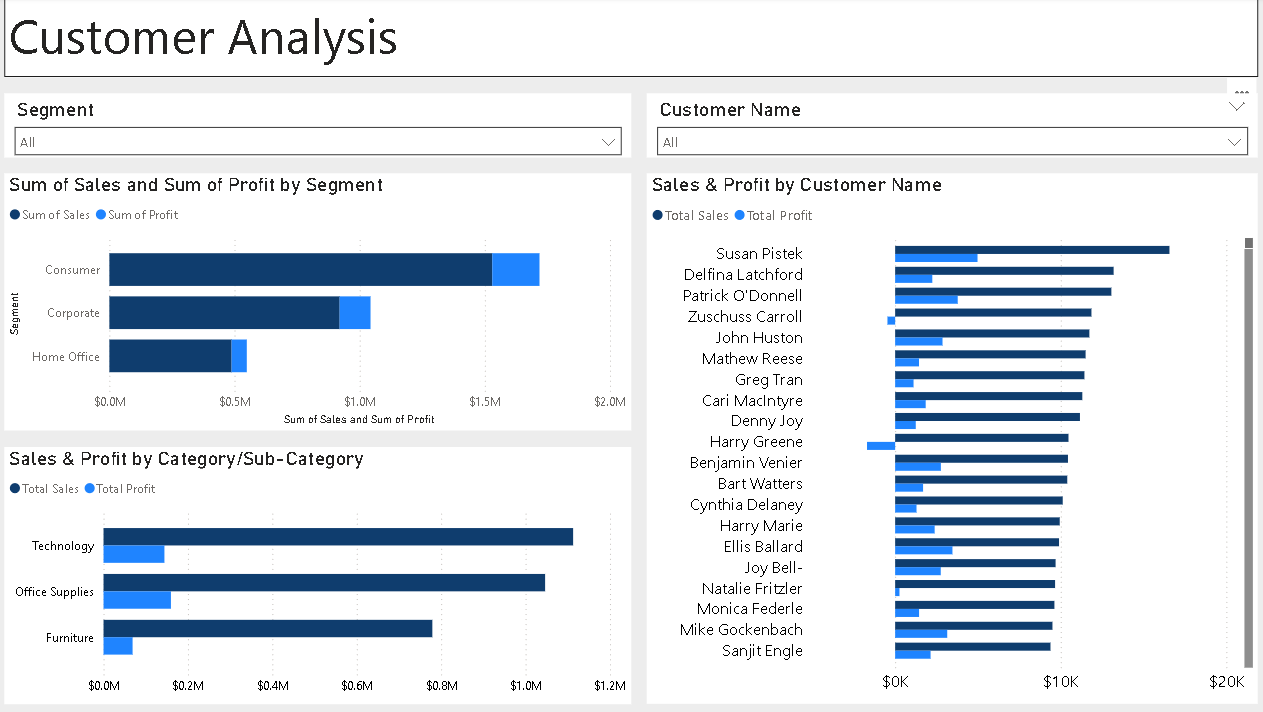

Layout of this report page (visuals, bound fields, positions):
{"tool":"powerbi","page":{"name":"Customer","canvas":[1280,720],"ordinal":2},"visuals":[{"type":"textbox","box":[16,0,1248,80],"z":0},{"type":"slicer","fields":{"Values":["superstore sample - eu superstore 2(orders)2.Segment"]},"box":[16,96,624,64],"z":1000},{"type":"slicer","fields":{"Values":["superstore sample - eu superstore 2(orders)2.Customer Name"]},"box":[656,96,608,64],"z":2000},{"type":"barChart","fields":{"Y":["Sum(superstore sample - eu superstore 2(orders)2.Sales)","Sum(superstore sample - eu superstore 2(orders)2.Profit)"],"Category":["superstore sample - eu superstore 2(orders)2.Segment"]},"box":[16,176,624,256],"z":3000},{"type":"clusteredBarChart","title":"Sales & Profit by Category/Sub-Category","fields":{"Category":["superstore sample - eu superstore 2(orders)2.Category","superstore sample - eu superstore 2(orders)2.Sub-Category"],"Y":["Sum(superstore sample - eu superstore 2(orders)2.Sales)","Sum(superstore sample - eu superstore 2(orders)2.Profit)"]},"box":[16,448,624,256],"z":4000},{"type":"clusteredBarChart","title":"Sales & Profit by Customer Name","fields":{"Category":["superstore sample - eu superstore 2(orders)2.Customer Name"],"Y":["Sum(superstore sample - eu superstore 2(orders)2.Sales)","Sum(superstore sample - eu superstore 2(orders)2.Profit)"]},"box":[656,176,608,528],"z":5000}]}

Visuals, with their boxes in screenshot pixels (x1, y1, x2, y2), scaled from the page's 1280x720 canvas onto the 1263x712 screenshot:
textbox: {"x1": 16, "y1": 0, "x2": 1247, "y2": 79}
slicer - superstore sample - eu superstore 2(orders)2.Segment: {"x1": 16, "y1": 95, "x2": 632, "y2": 158}
slicer - superstore sample - eu superstore 2(orders)2.Customer Name: {"x1": 647, "y1": 95, "x2": 1247, "y2": 158}
barChart - Sum(superstore sample - eu superstore 2(orders)2.Sales) x Sum(superstore sample - eu superstore 2(orders)2.Profit): {"x1": 16, "y1": 174, "x2": 632, "y2": 427}
"Sales & Profit by Category/Sub-Category" clusteredBarChart: {"x1": 16, "y1": 443, "x2": 632, "y2": 696}
"Sales & Profit by Customer Name" clusteredBarChart: {"x1": 647, "y1": 174, "x2": 1247, "y2": 696}
